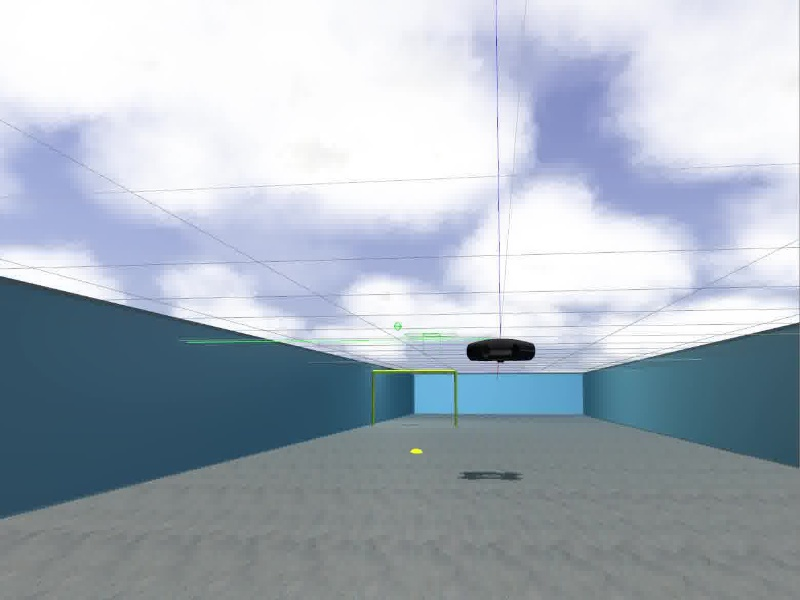gate: (370, 367, 457, 428)
